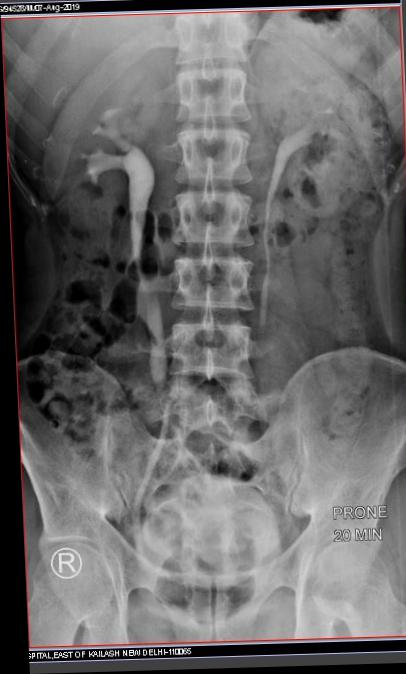bladder: (132, 469, 282, 592)
left kidney: (259, 35, 399, 225)
right kidney: (32, 61, 172, 265)
vertebrae: (169, 126, 257, 193)
